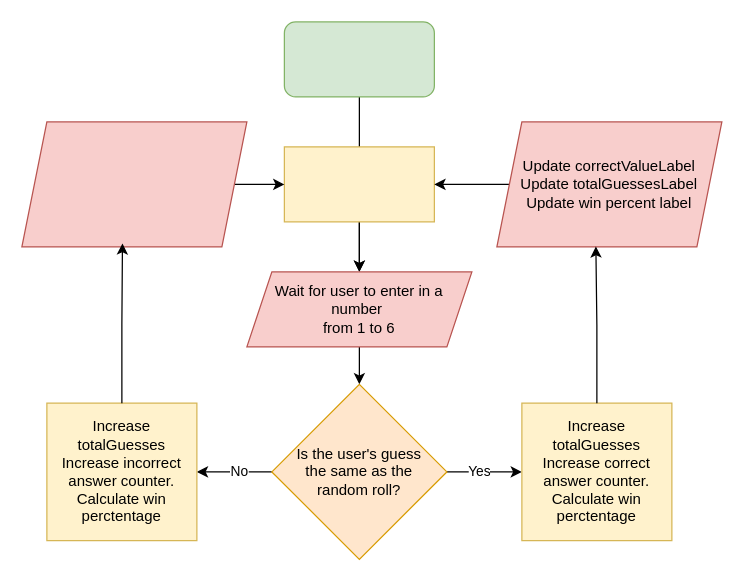
Image size: 744x581. Some labels were removed from this diagram. The centre of each missing label's shape, as x and y in pixels:
"Generate a random number" goes at [358,184].
"Start" goes at [358,59].
"Update incorrectValueLabel Update totalGuessesLabel Update win percent label" goes at [134,184].
